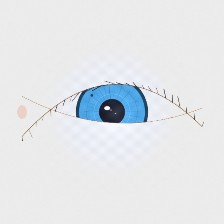pterygium_lesion: (156, 94, 202, 130)
